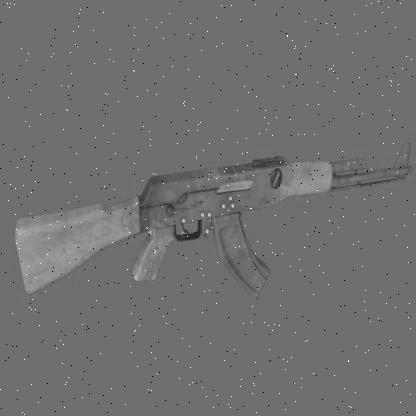rifle: (8, 129, 412, 339)
